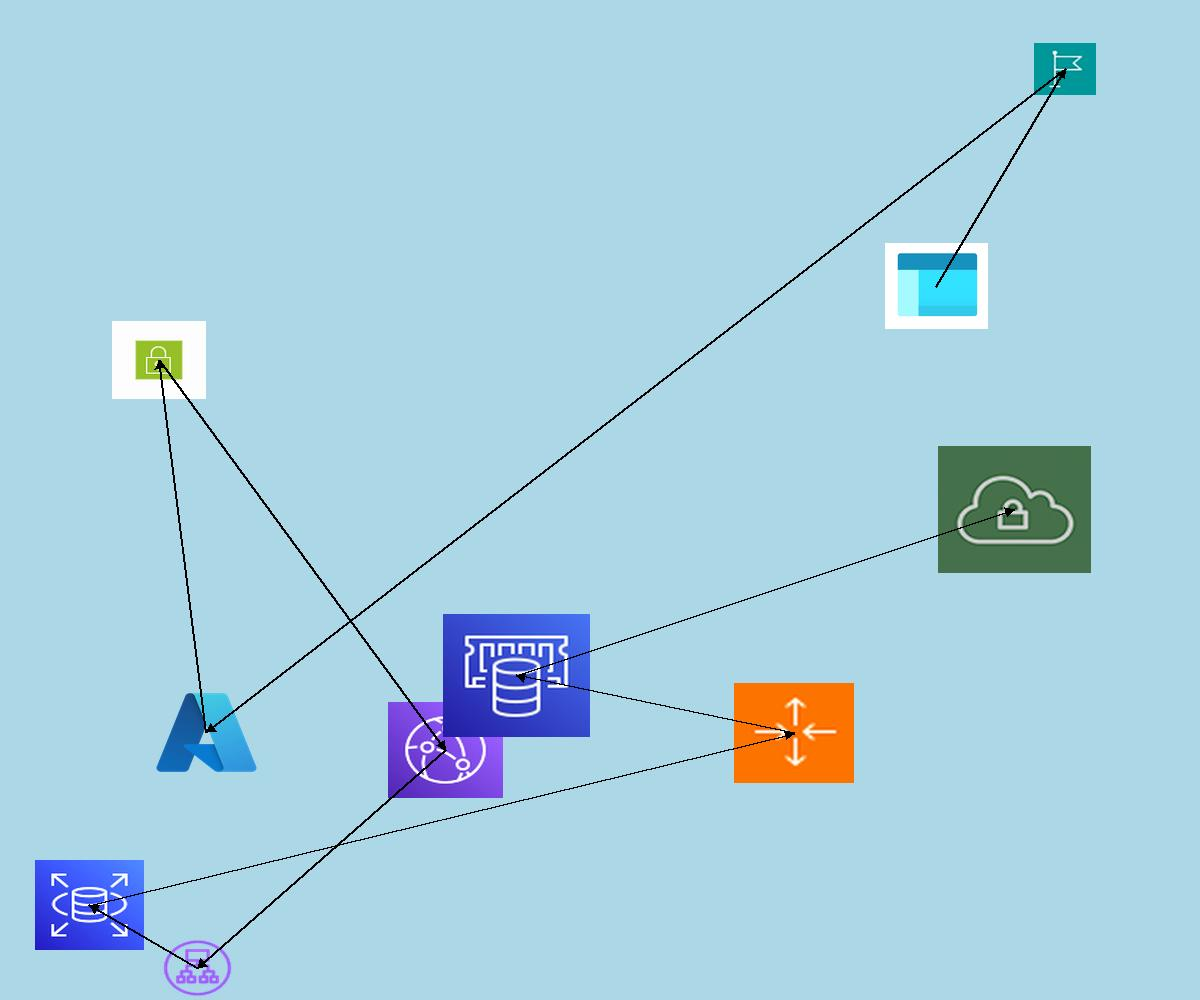AWS-CloudFront: (388, 702, 503, 798)
AWS-ElastiCache: (443, 614, 590, 737)
AWS-Private_vpc: (938, 446, 1091, 573)
AWS-Public-subnet: (112, 321, 206, 399)
AWS-RDS: (35, 860, 144, 950)
AWS-Region: (1034, 43, 1096, 95)
AWS-Res_Elastic-Load-Balancing_Application-Load-Balancer: (161, 938, 234, 998)
AWS-Scaling-group: (734, 683, 854, 783)
Azure_management-portal: (885, 243, 988, 329)
Azure_services: (152, 687, 261, 778)
